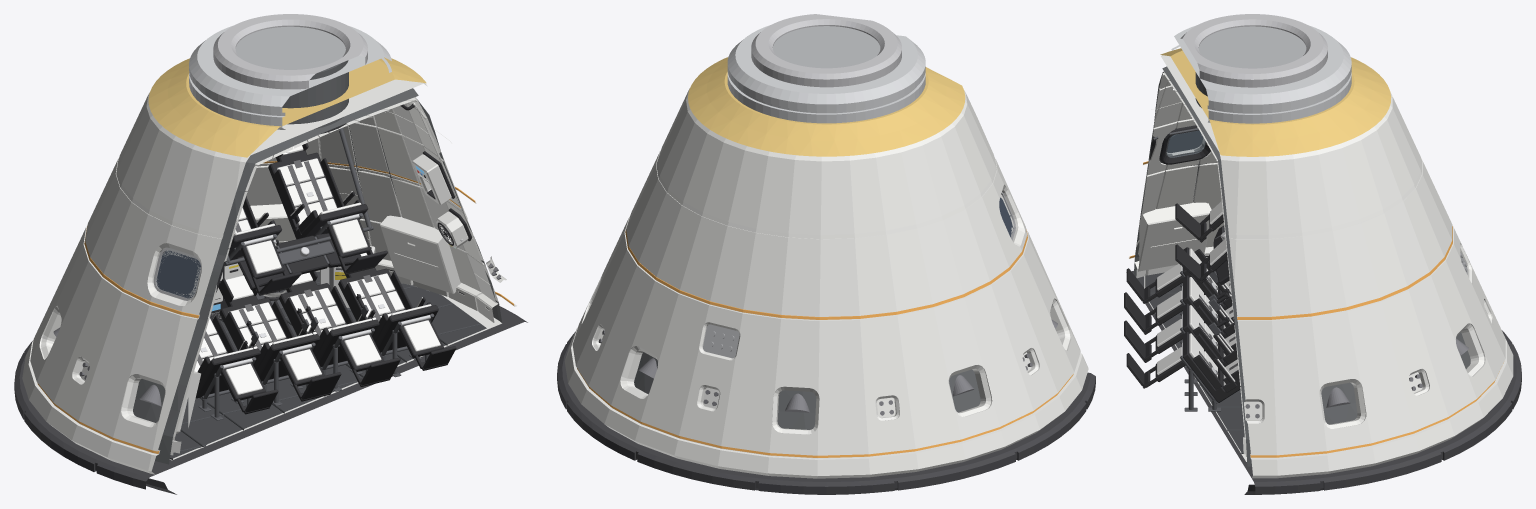
The model's file is ax_cmd_03_ares_heavy_capsule_cutaway.glb.
3 renders of one model, left to right at view 1: azimuth 30°, elevation 25°; view 2: azimuth 150°, elevation 25°; view 3: azimuth 270°, elevation 25°, orthographic. The views are drawn at different scales.
Parts seen in each view (by area): view 1: ext_shell, pressure_vessel, ext_mli_crown, ext_heat_shield, ext_nose_cap, ext_docking_port, closeout_1, ext_docking_hatch, seat_5_cushions, seat_3_cushions, ext_window_glass, mq03_1_mq03_bezel (+48 smaller); view 2: ext_shell, ext_mli_crown, ext_heat_shield, ext_nose_cap, ext_docking_port, ext_docking_hatch, ext_orange_stripes, pressure_vessel, ext_umbilical_panel, ext_abort_nozzles; view 3: ext_shell, ext_mli_crown, ext_nose_cap, ext_heat_shield, ext_docking_port, ext_docking_hatch, pressure_vessel, closeout_5, ext_orange_stripes, panel_b2_f18, panel_b2_f17, seat_1_bolsters (+20 smaller).
Part boxes in pixels (x1,y1,x2,y2): ext_shell: (22, 79, 516, 474); pressure_vessel: (133, 60, 501, 464); ext_mli_crown: (148, 57, 426, 157); ext_heat_shield: (14, 306, 527, 494); ext_nose_cap: (189, 25, 391, 129); ext_docking_port: (213, 14, 367, 89); closeout_1: (380, 215, 460, 293); ext_docking_hatch: (235, 26, 345, 69); seat_5_cushions: (277, 145, 361, 225); seat_3_cushions: (225, 275, 312, 348); ext_window_glass: (156, 250, 200, 298); mq03_1_mq03_bezel: (237, 233, 361, 290); ext_shell: (564, 88, 1088, 478); ext_mli_crown: (688, 57, 965, 156); ext_heat_shield: (557, 332, 1095, 494); ext_nose_cap: (727, 25, 925, 123); ext_docking_port: (751, 14, 901, 87); ext_docking_hatch: (773, 26, 880, 68); ext_orange_stripes: (577, 229, 1073, 457); pressure_vessel: (634, 352, 980, 429); ext_umbilical_panel: (703, 324, 739, 358); ext_abort_nozzles: (639, 319, 1057, 412); ext_shell: (1128, 55, 1513, 478); ext_mli_crown: (1160, 48, 1391, 156); ext_nose_cap: (1171, 25, 1351, 123); ext_heat_shield: (1126, 271, 1521, 494); ext_docking_port: (1180, 14, 1327, 87); ext_docking_hatch: (1199, 26, 1306, 68); pressure_vessel: (1134, 66, 1470, 466); closeout_5: (1138, 202, 1211, 271); ext_orange_stripes: (1129, 161, 1503, 457); panel_b2_f18: (1156, 165, 1198, 208); panel_b2_f17: (1193, 163, 1221, 209); seat_1_bolsters: (1193, 333, 1239, 389).
Size of the model in its own units: 5 by 3.8 by 3.69.
